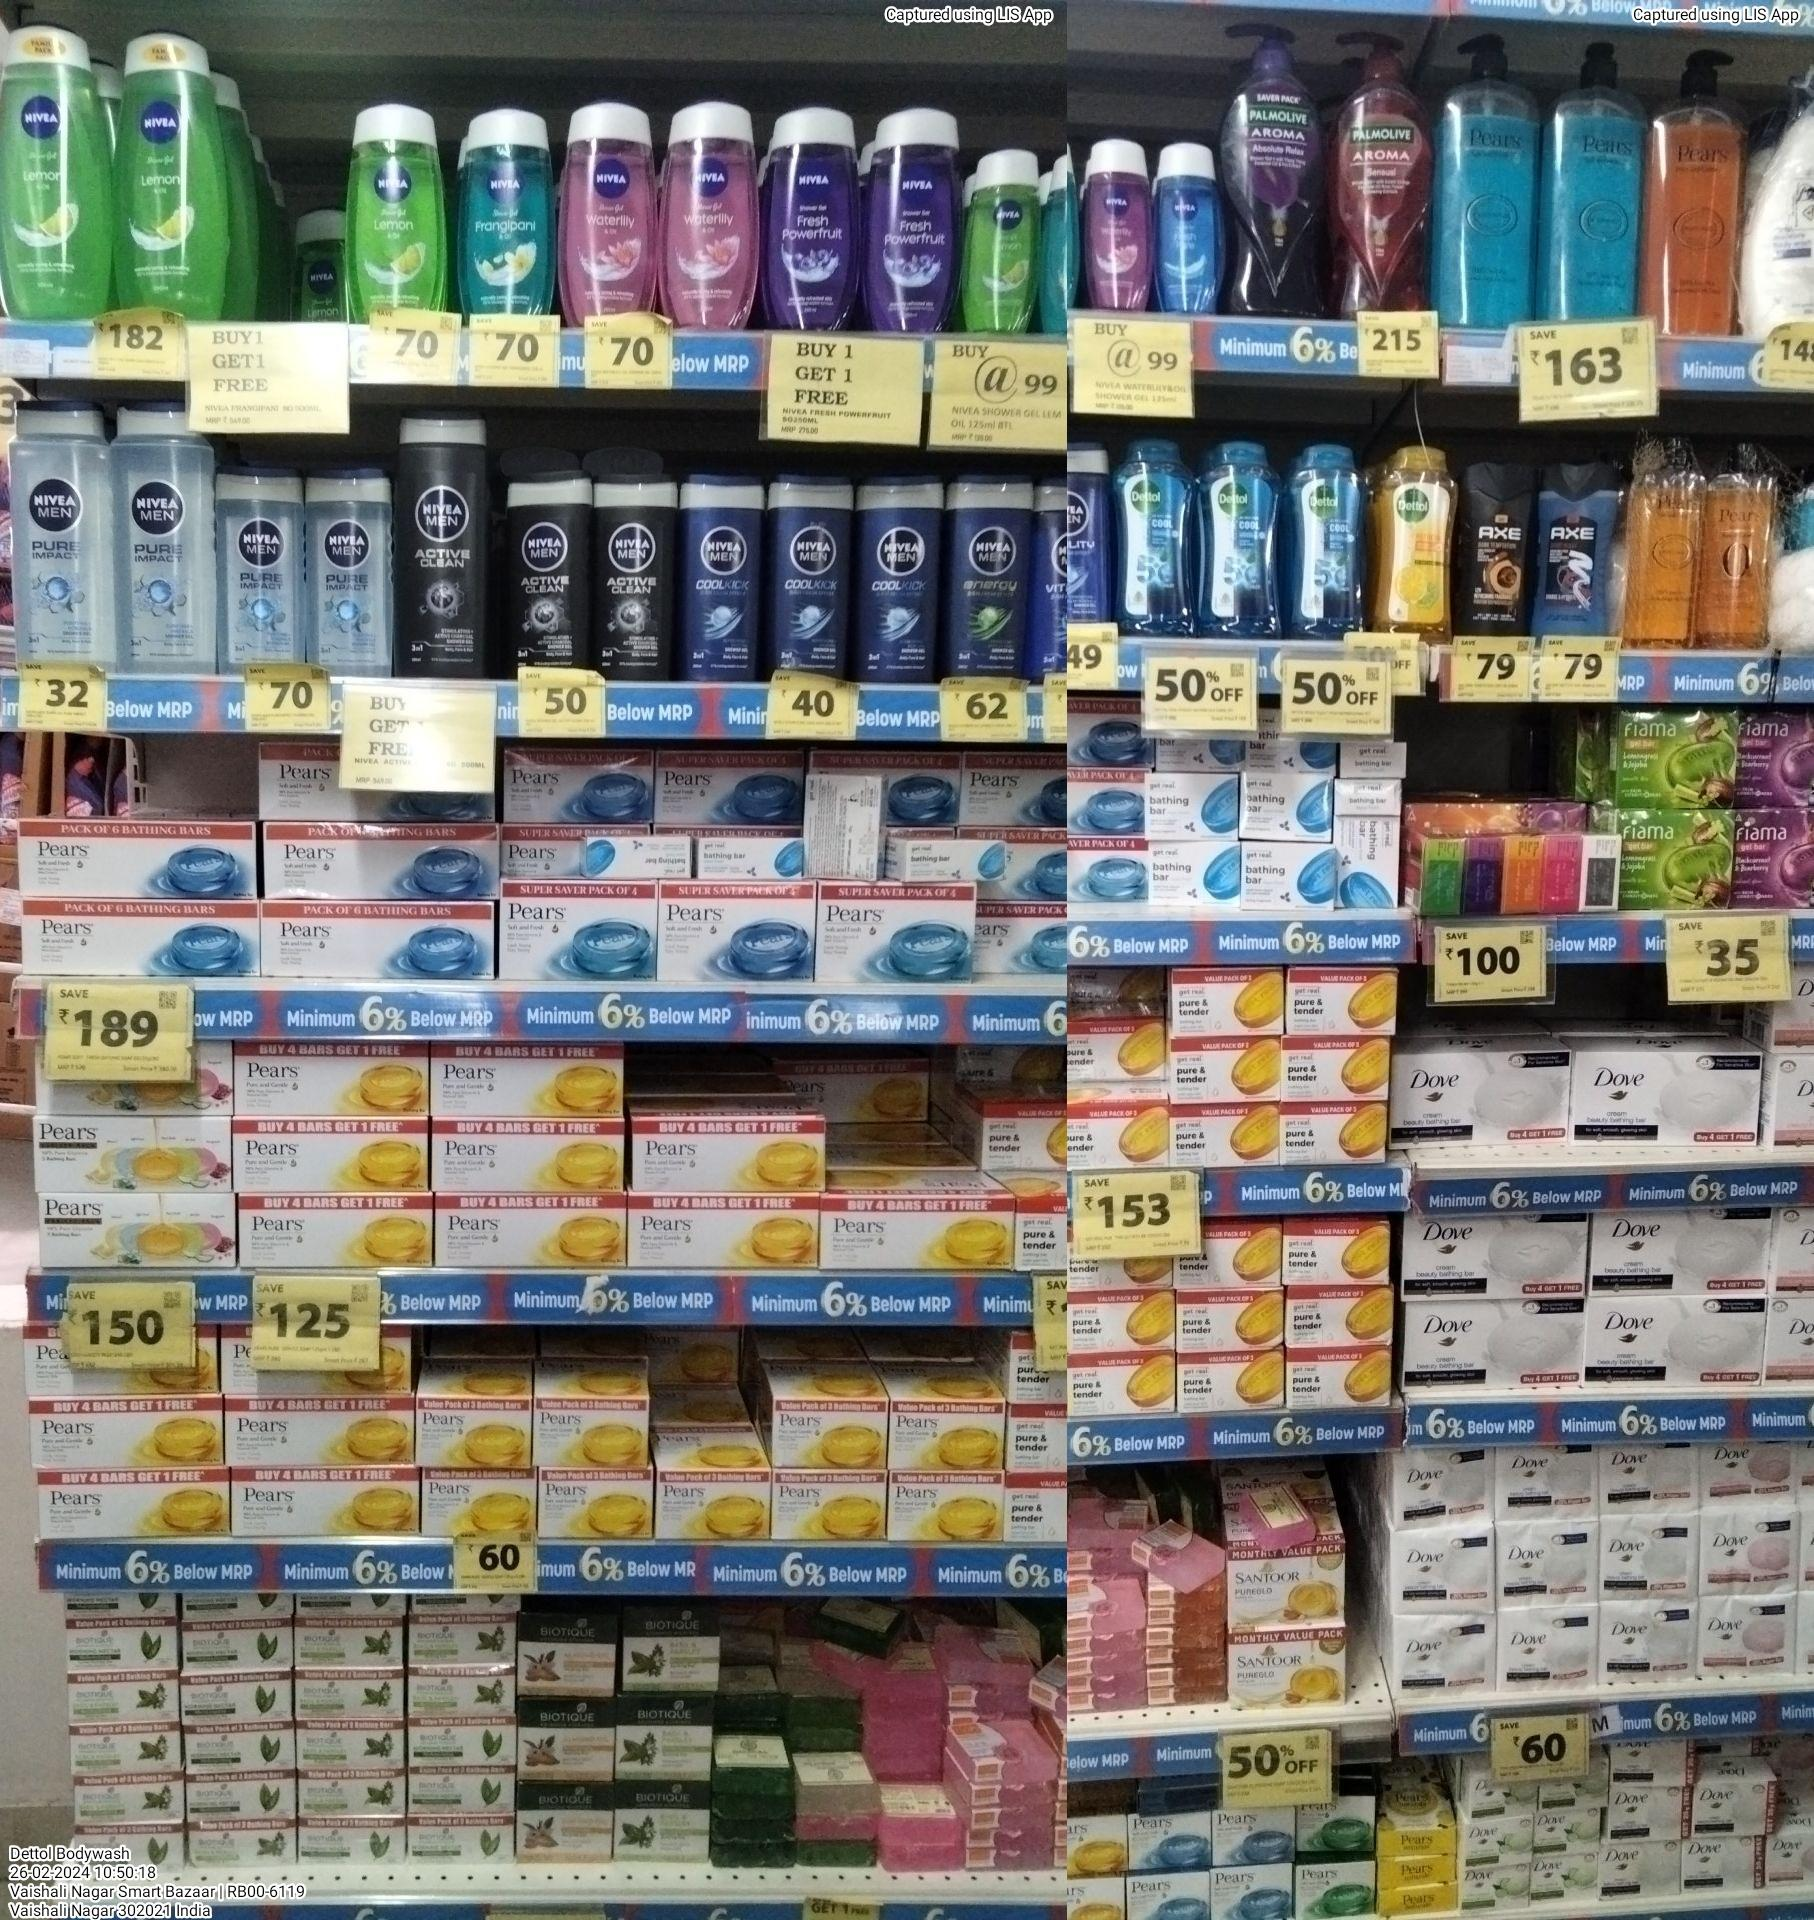Dettol_Bodywash_Cool: (1110, 437, 1195, 634), (1197, 442, 1280, 634), (1285, 443, 1366, 636)
Dettol_Bodywash_Refresh: (1371, 440, 1454, 639)
Nivea_Shower_Gel_Frangipani_and_Oil_250ML: (453, 97, 559, 319)
Nivea_Shower_Gel_Fresh_Powerfruit_250ML: (764, 102, 859, 331), (863, 99, 953, 331)
Nivea_Shower_Gel_Lemon_and_Oil_250ML: (0, 14, 111, 322), (116, 24, 225, 319), (343, 95, 455, 315), (962, 143, 1037, 336)
Nivea_Shower_Gel_Waterlily_and_Oil_250ML: (661, 99, 759, 327), (559, 95, 656, 317), (1083, 133, 1153, 314)
